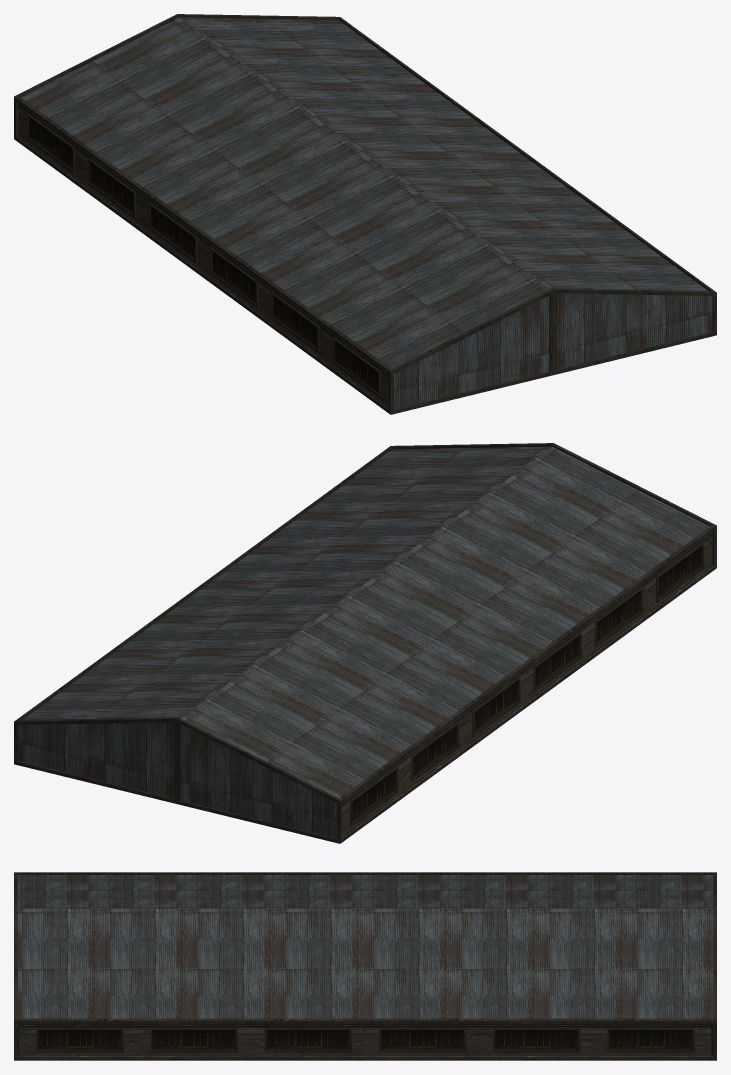
Rendered from roof_mh_4_a_4.obj.
3 views of the same model, one above another, from view 1: azimuth 30°, elevation 25°; view 2: azimuth 150°, elevation 25°; view 3: azimuth 270°, elevation 25° (orthographic). The views are drawn at different scales.
Visible parts, largest first — view 1: roof_mh_4_a_4; view 2: roof_mh_4_a_4; view 3: roof_mh_4_a_4.
Part boxes in pixels (<box>): roof_mh_4_a_4: <box>14,14,716,414</box>; roof_mh_4_a_4: <box>14,443,716,843</box>; roof_mh_4_a_4: <box>14,872,716,1060</box>.
Bounding box in the file's own units: 8 × 2 × 16.
